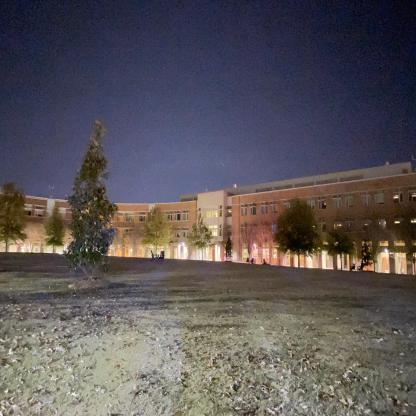eb3: (83, 184, 415, 272)
